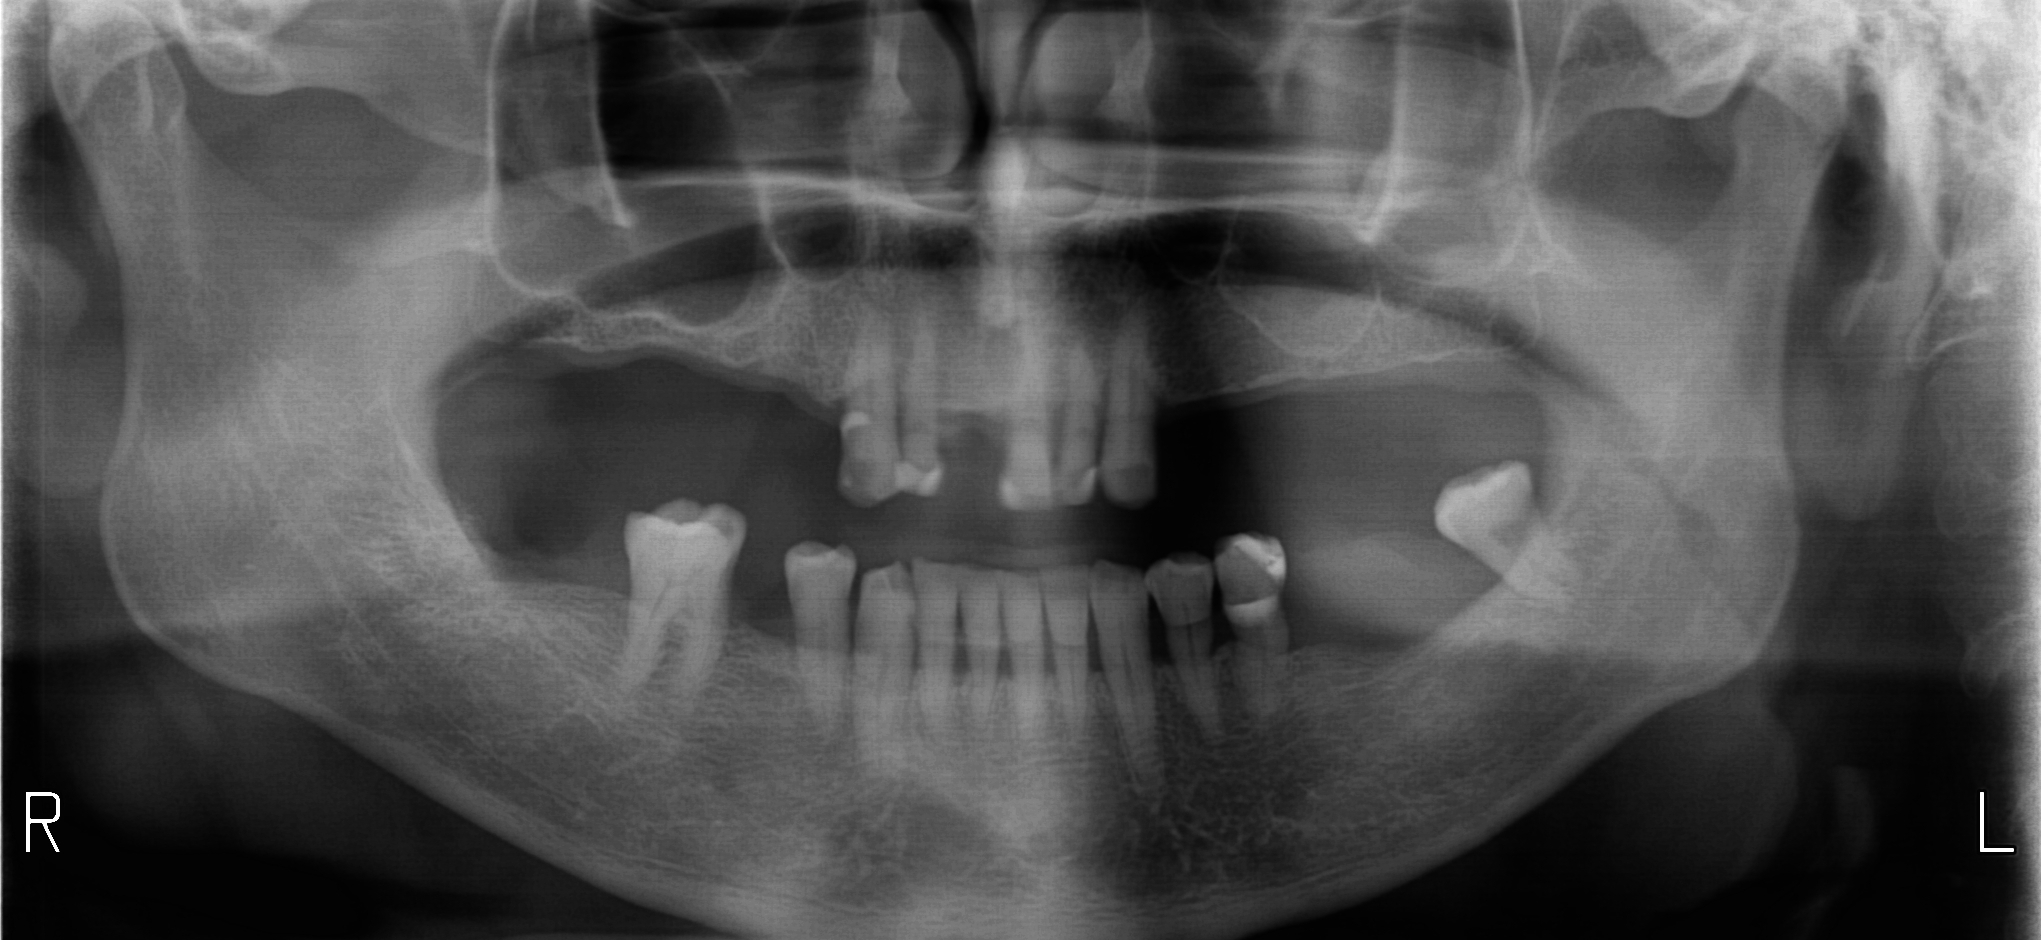cavity: (722, 549, 734, 585)
